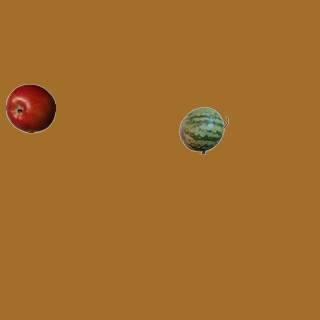Apple Braeburn: (5, 83, 55, 133)
Watermelon: (178, 105, 228, 155)
